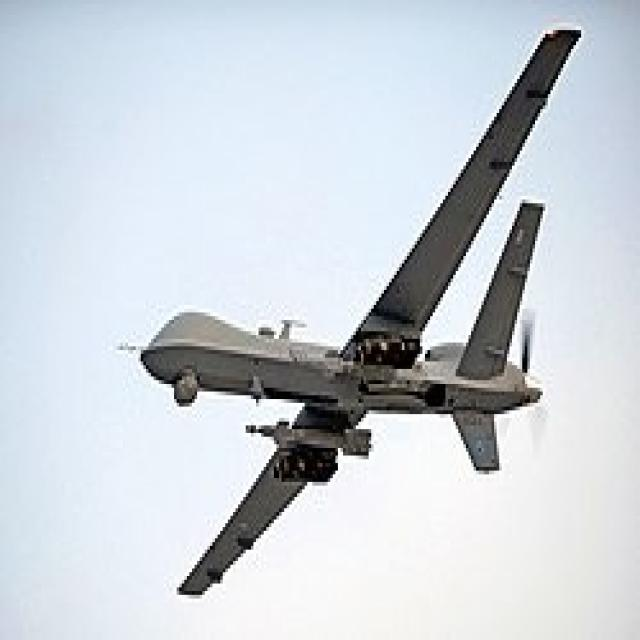MQ9: (45, 0, 640, 628)
